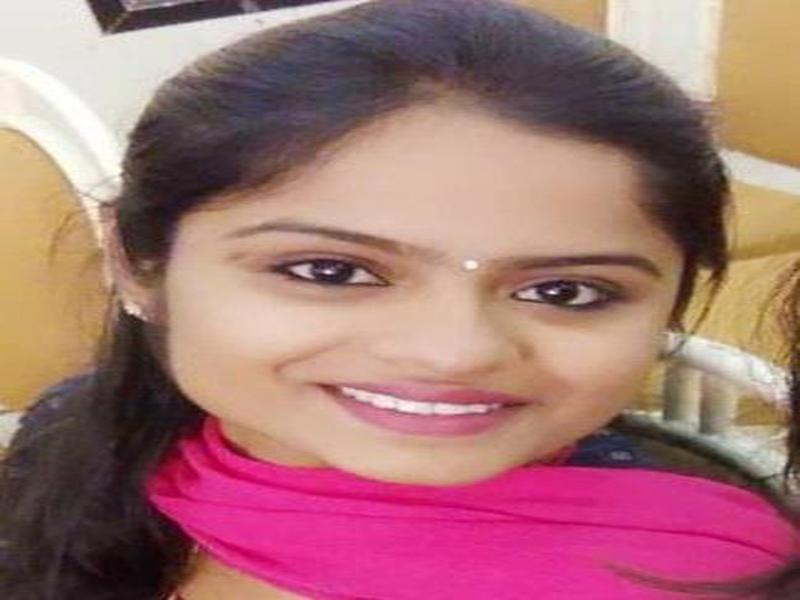without_mask: (166, 144, 683, 491)
